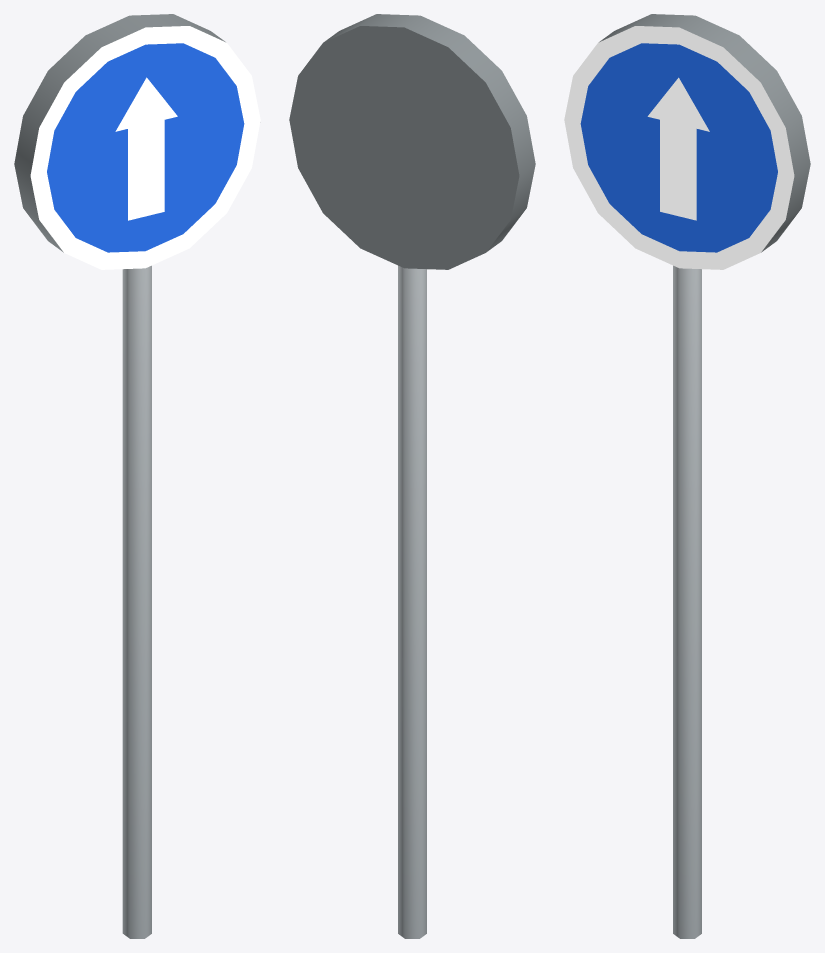
Rendered from Road_Sign_03.glb.
The picture shows the model from 3 angles, left to right: view 1: azimuth 30°, elevation 25°; view 2: azimuth 150°, elevation 25°; view 3: azimuth 330°, elevation 25°; orthographic projection.
Parts seen in each view (by area): view 1: Road_Sign_03; view 2: Road_Sign_03; view 3: Road_Sign_03.
Boxes of the visible parts, bbox=[...] form: Road_Sign_03: bbox=[14, 14, 260, 938]; Road_Sign_03: bbox=[289, 14, 535, 938]; Road_Sign_03: bbox=[564, 14, 810, 938].
Size of the model in its own units: 0.7311 by 2.77 by 0.0939.
1 material, 1 textured.
